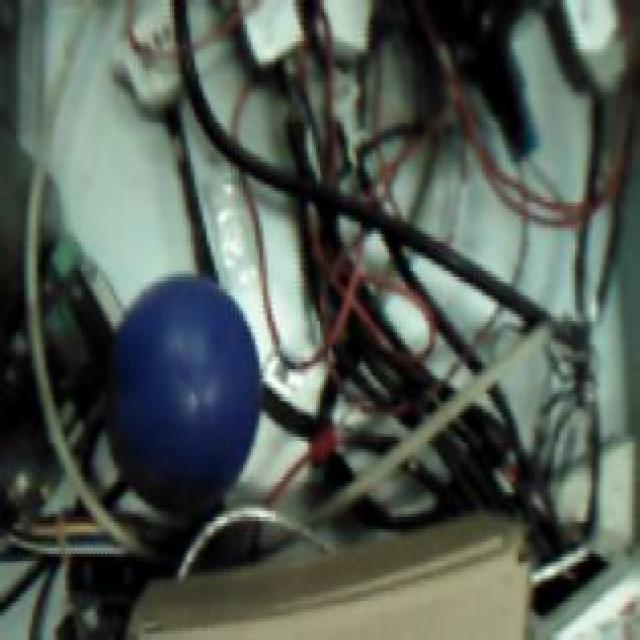BallPurple: (103, 272, 259, 511)
